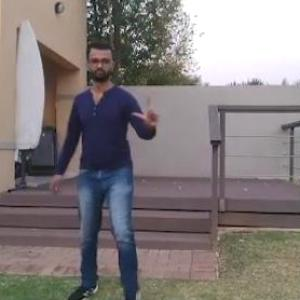land_hand: (124, 97, 159, 139)
